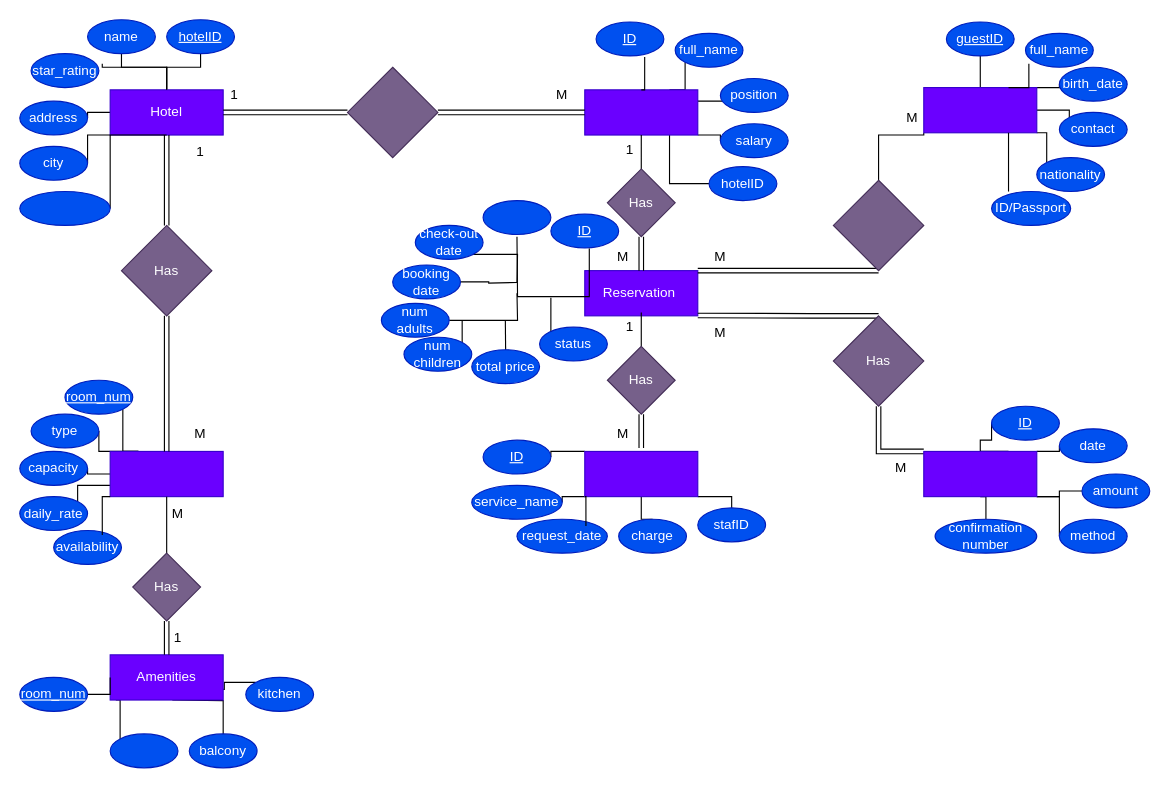
Some shapes in this 1170 by 797 pixel diagram are drawn without their labels. The centre of each missing label's shape, as x and y in pixels:
"check-in date" belongs at (516,216).
"contact_num" belongs at (64,207).
"Guest" belongs at (980,109).
"Make" belongs at (878,225).
"Payment" belongs at (980,473).
"Room" belongs at (166,473).
"sea_view" belongs at (143,750).
"Service" belongs at (641,473).
"Staff" belongs at (641,112).
"Work" belongs at (392,112).
